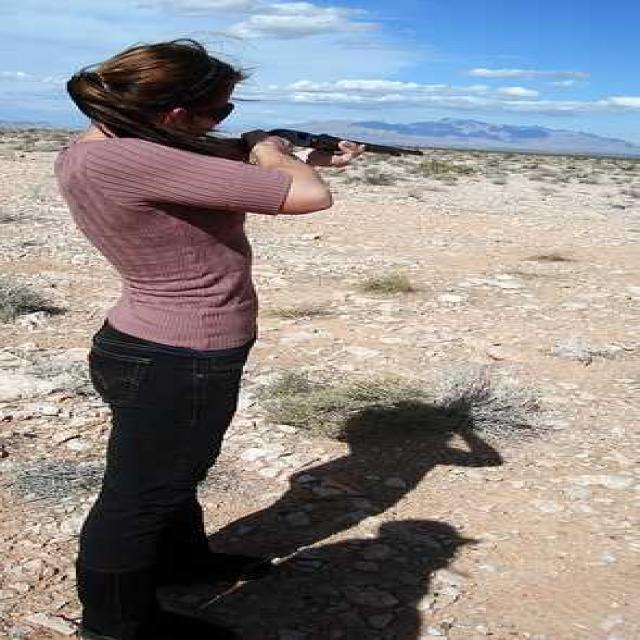weapon: (195, 111, 492, 216)
